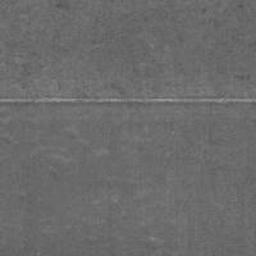Welding line: (0, 95, 256, 105)
